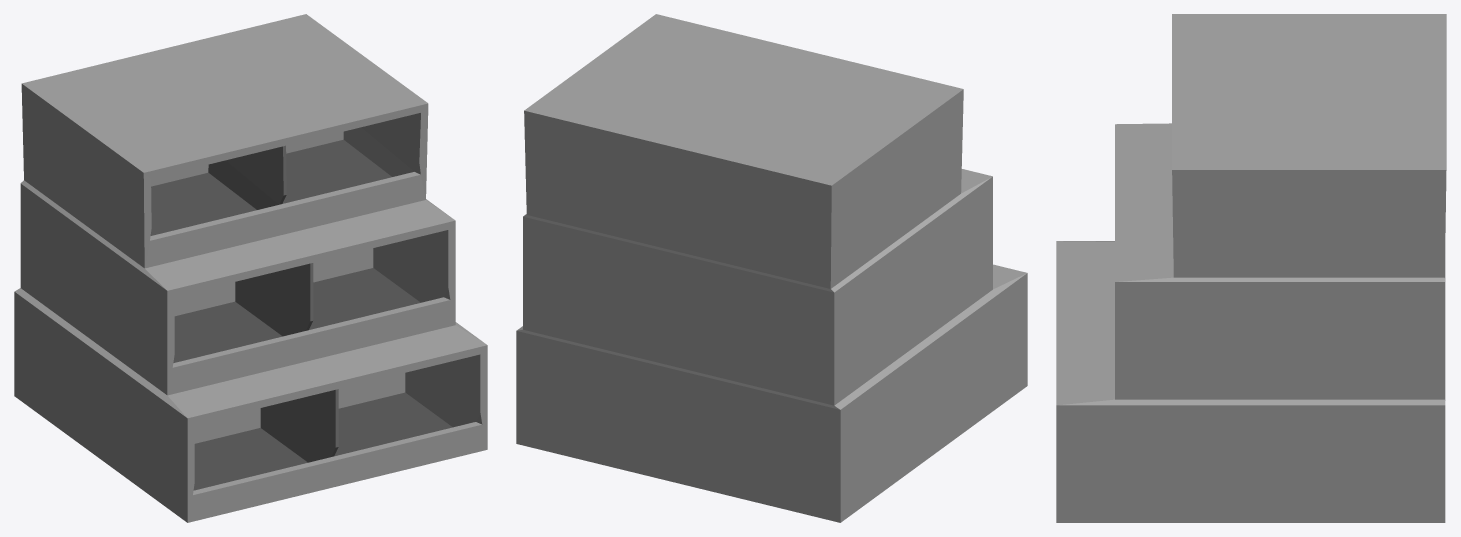
Rendered from Counter Rack #3.fbx.
The picture shows the model from 3 angles, left to right: view 1: azimuth 30°, elevation 25°; view 2: azimuth 150°, elevation 25°; view 3: azimuth 270°, elevation 25°; orthographic projection. The views are drawn at different scales.
Visible parts, largest first — view 1: Counter Rack #3; view 2: Counter Rack #3; view 3: Counter Rack #3.
Boxes of the visible parts, left/top/right/bottom form: Counter Rack #3: left=14, top=14, right=487, bottom=522; Counter Rack #3: left=516, top=14, right=1027, bottom=522; Counter Rack #3: left=1056, top=14, right=1446, bottom=522.
Size of the model in its own units: 48.1 by 47.59 by 48.23.
Materials: 1 (1 with a texture image).
